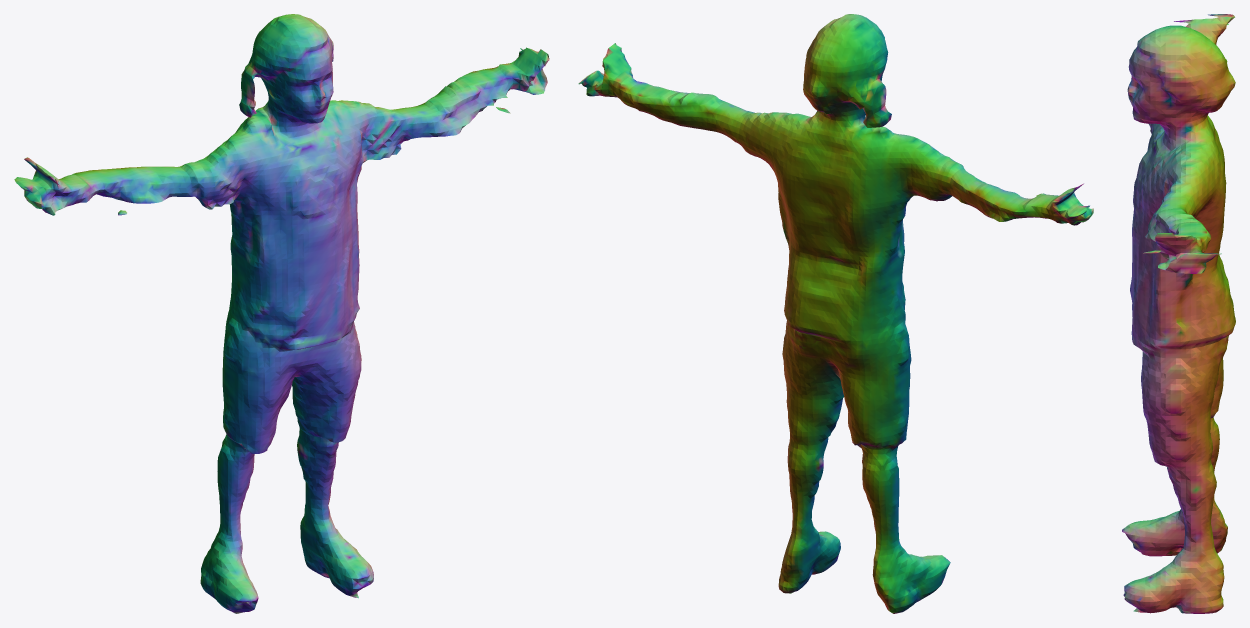
File: result_test_v3_clean_128.obj
3 renders of one model, left to right at view 1: azimuth 30°, elevation 25°; view 2: azimuth 150°, elevation 25°; view 3: azimuth 270°, elevation 25°, orthographic. The views are drawn at different scales.
Bounding box in the file's own units: 1.77 × 1.91 × 0.3502.
